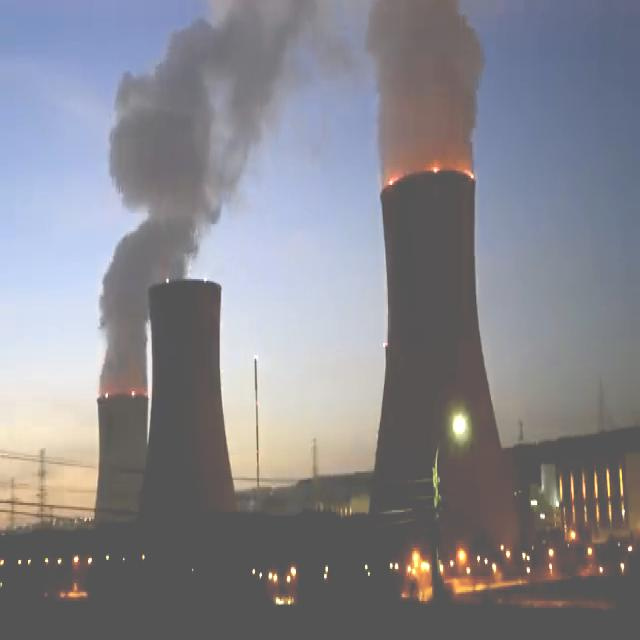smoke: (98, 0, 327, 398), (365, 0, 484, 187)
